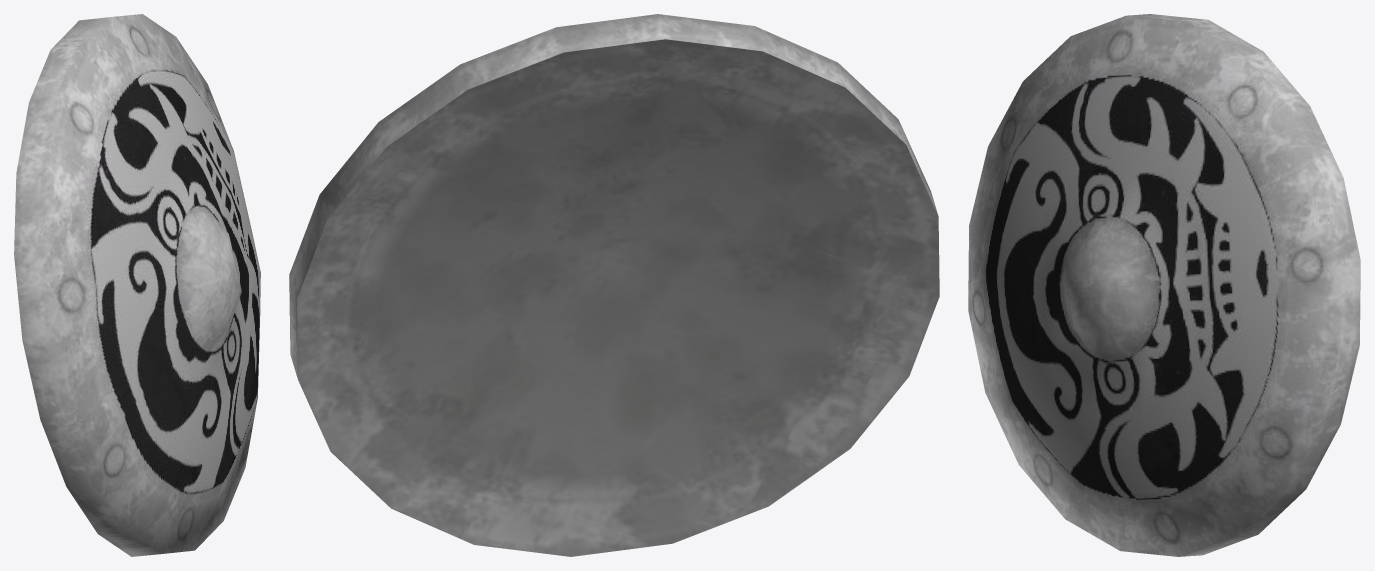
File: shield-bronzeshields.glb
3 renders of one model, left to right at view 1: azimuth 30°, elevation 25°; view 2: azimuth 150°, elevation 25°; view 3: azimuth 270°, elevation 25°, orthographic. The views are drawn at different scales.
Size of the model in its own units: 0.4512 by 0.547 by 0.4027.
Materials: 1 (1 with a texture image).
